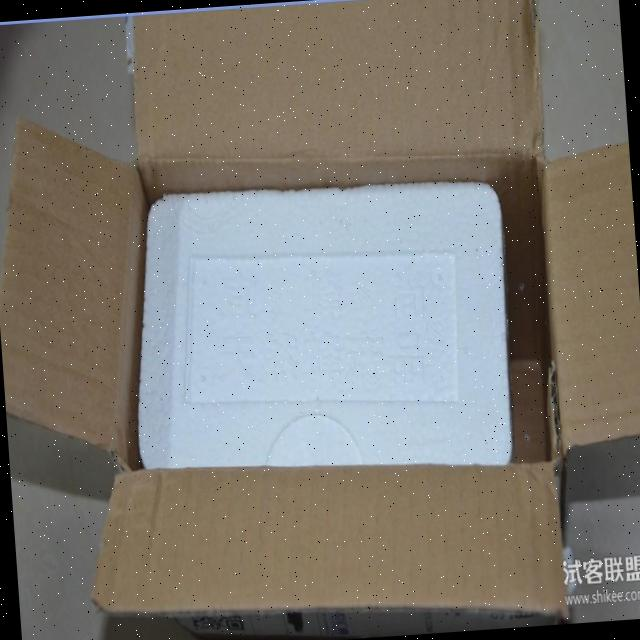styrofoam: (0, 0, 640, 640), (119, 166, 520, 489)
